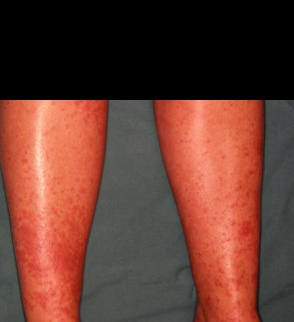SJS-TEN: (144, 99, 277, 322), (0, 99, 115, 322)
